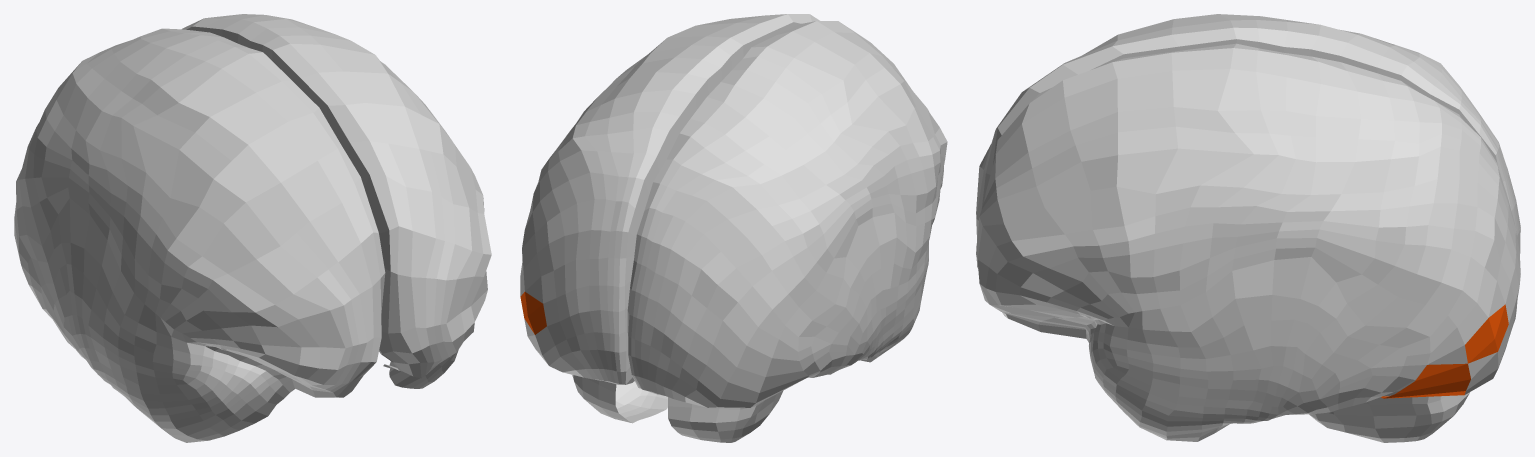
The model's file is mozog_4_8.fbx.
The picture shows the model from 3 angles, left to right: view 1: azimuth 30°, elevation 25°; view 2: azimuth 150°, elevation 25°; view 3: azimuth 270°, elevation 25°; orthographic projection. The views are drawn at different scales.
Visible parts, largest first — view 1: Brain; view 2: Brain, OccipitalLobe; view 3: Brain, OccipitalLobe.
Boxes of the visible parts, x1,y1,x2,y2 form: Brain: (14, 14, 491, 442); Brain: (520, 14, 947, 442); OccipitalLobe: (520, 292, 546, 334); Brain: (976, 14, 1520, 442); OccipitalLobe: (1381, 304, 1508, 398).
Bounding box in the file's own units: 344 × 358 × 476.
